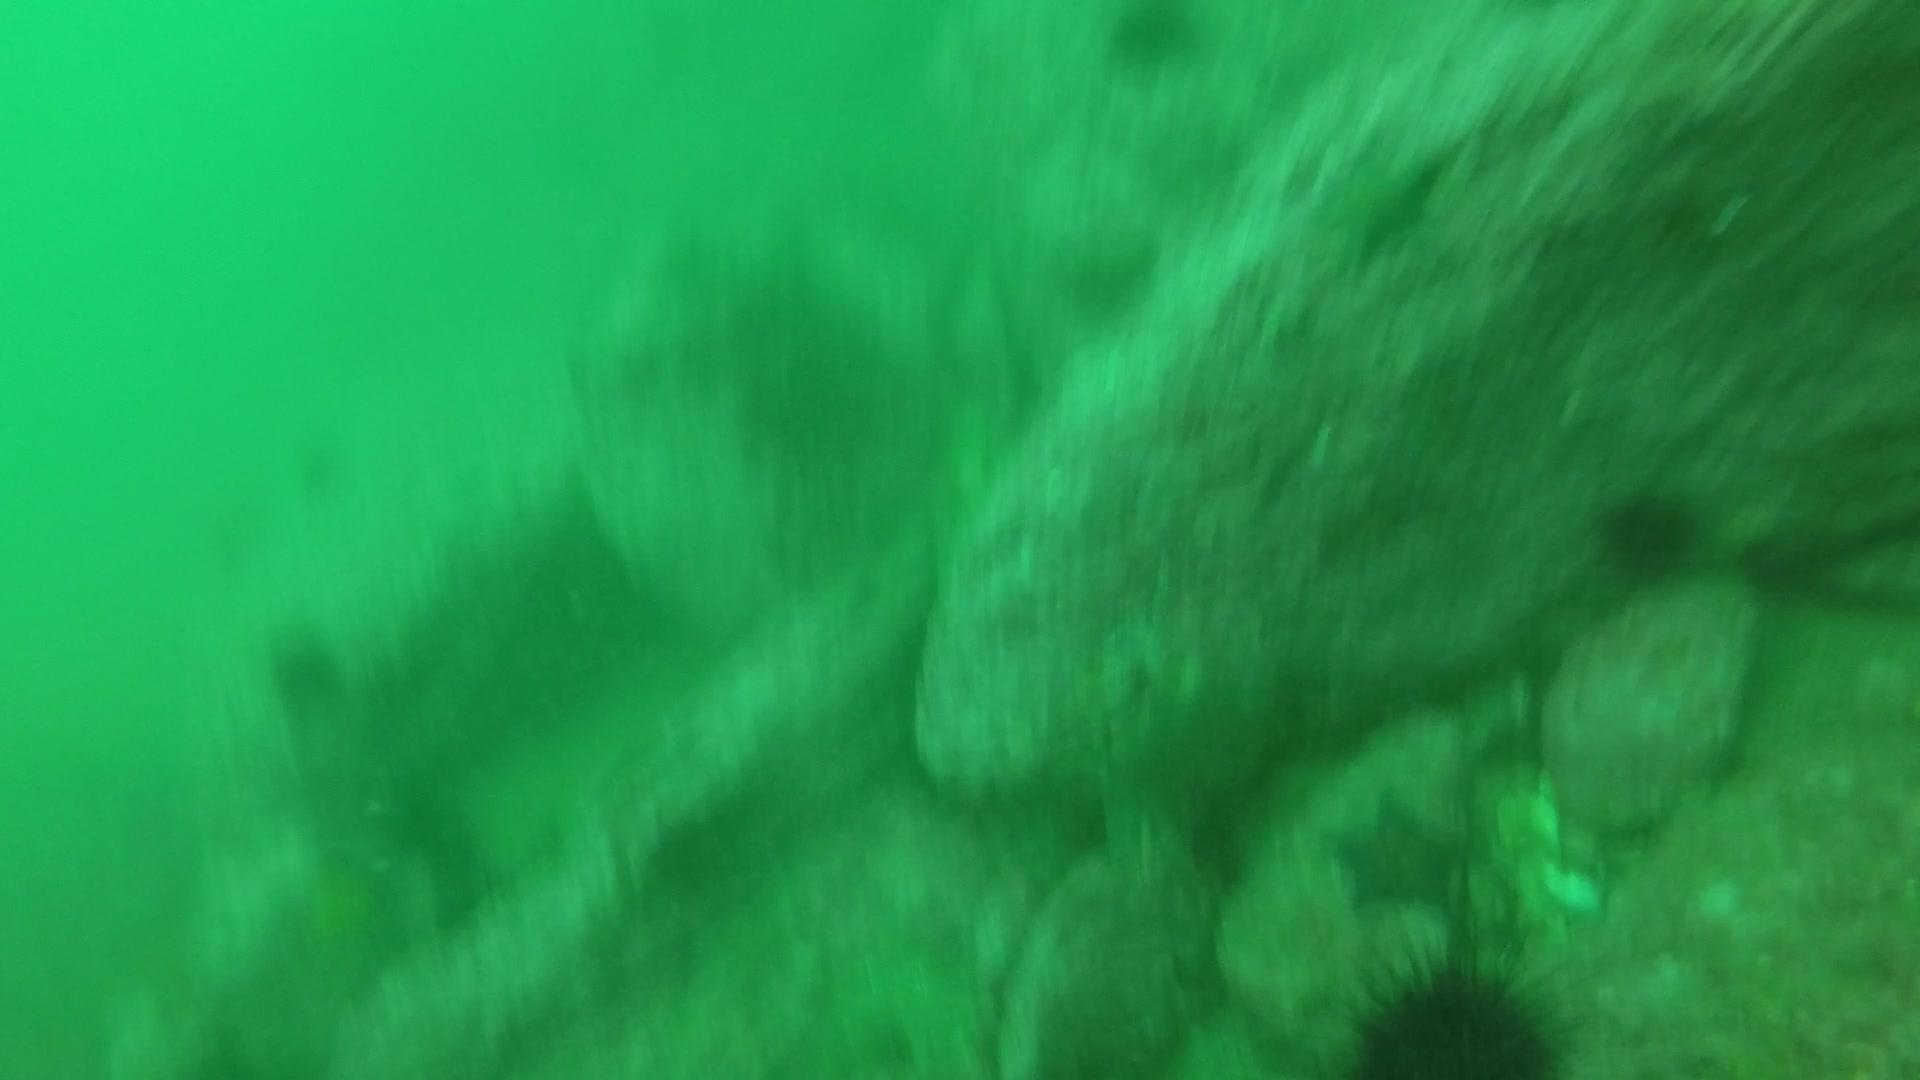echinus: (1340, 947, 1572, 1077), (1592, 480, 1705, 583), (1097, 3, 1212, 73), (262, 622, 345, 713)
starfish: (1323, 786, 1470, 920), (1313, 138, 1451, 268)
